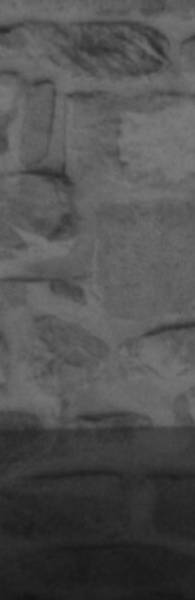water: (0, 428, 195, 600)
